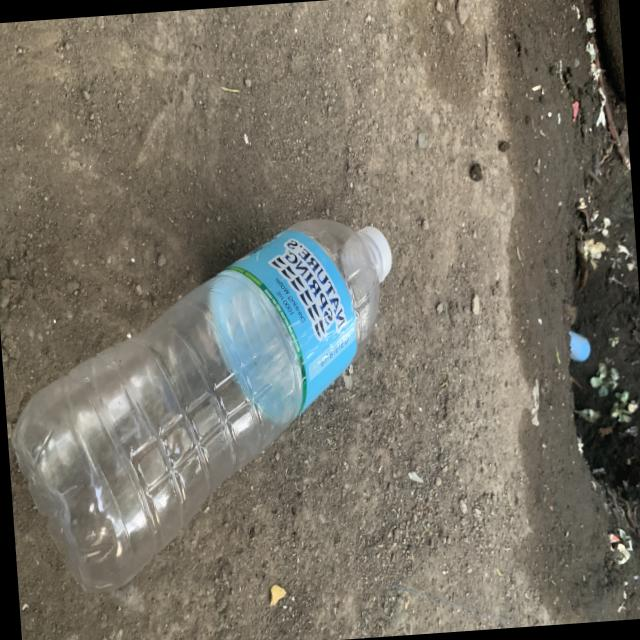Bottle: (12, 218, 391, 590)
